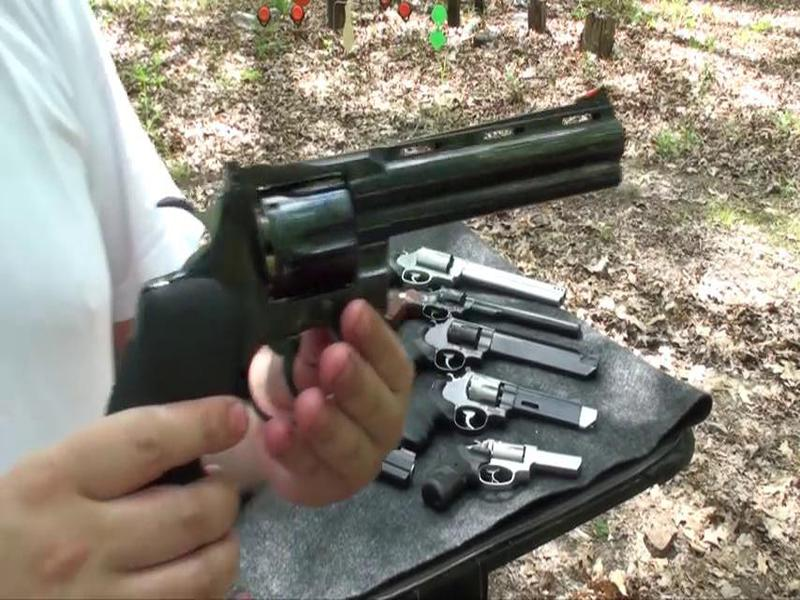Revolver: (115, 75, 646, 408)
